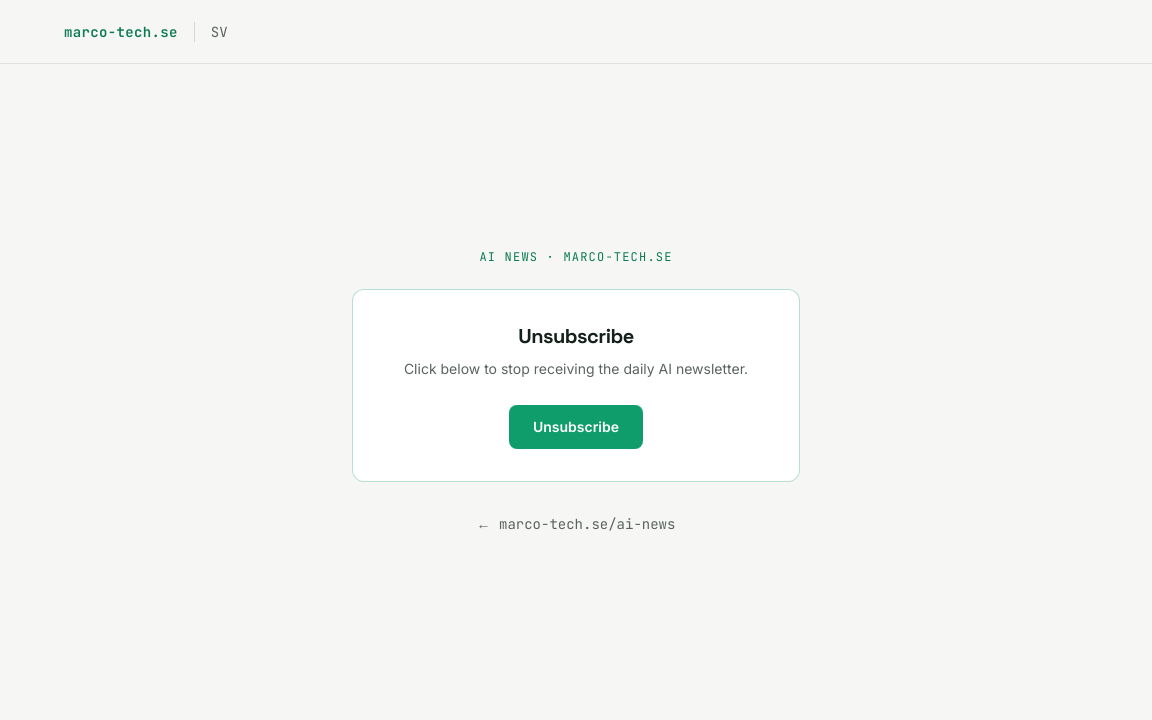
it: UnsubscribeButton › POSTs the token and shows confirmation on click
Click the button "Unsubscribe".
click(576, 427)  # box [509,405,643,449]
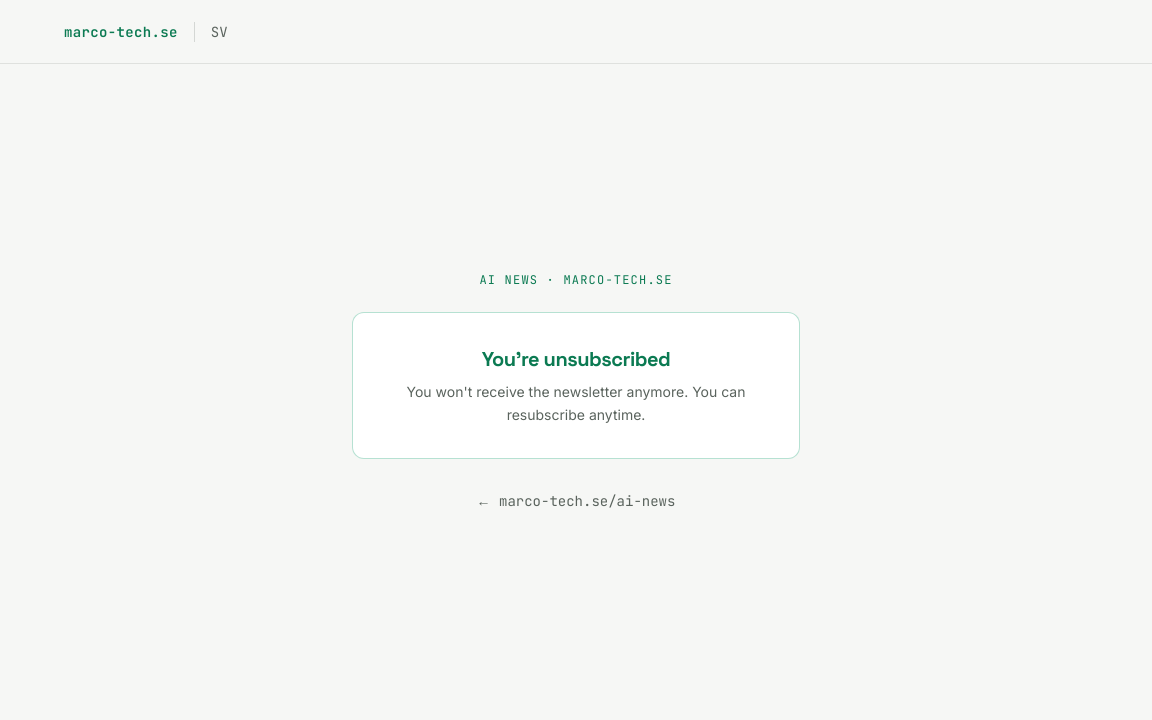
Check: the heading "You're unsubscribed" is shown, box [482,346,670,372]
